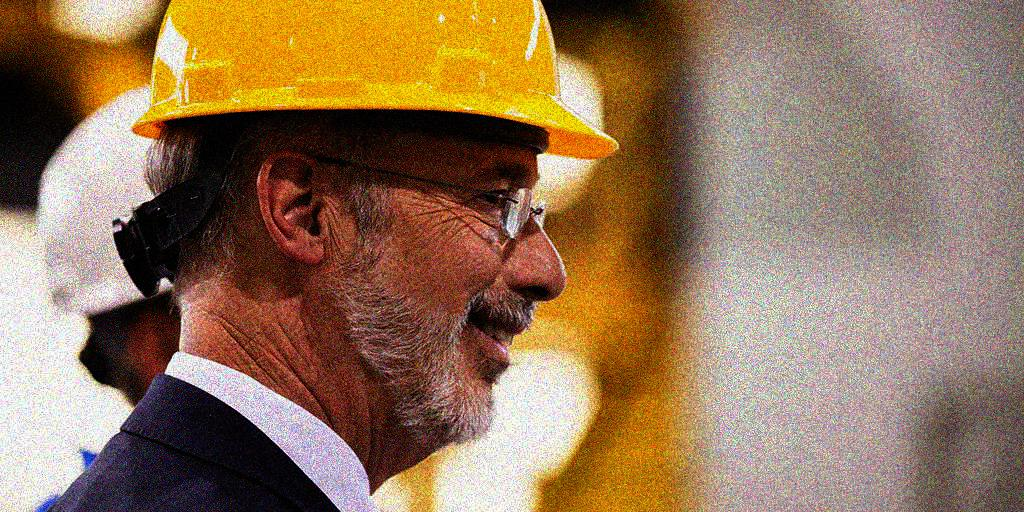helmet: (154, 1, 625, 438), (26, 82, 216, 404)
